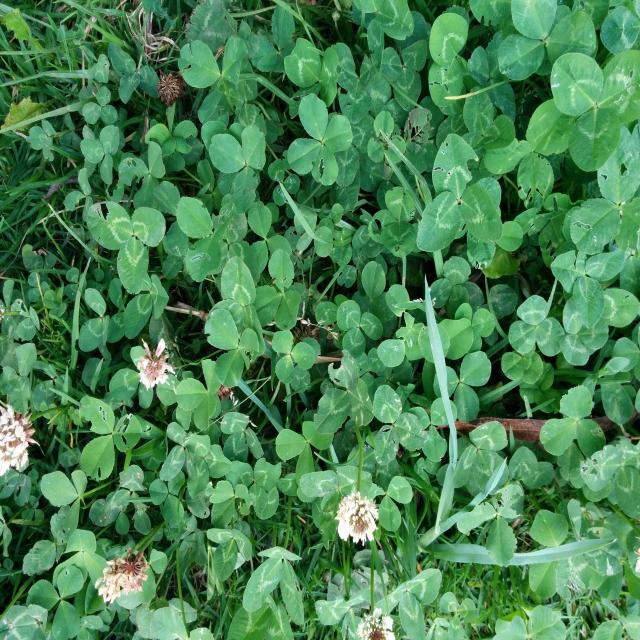Four Leaf Clover: (287, 95, 353, 186)
